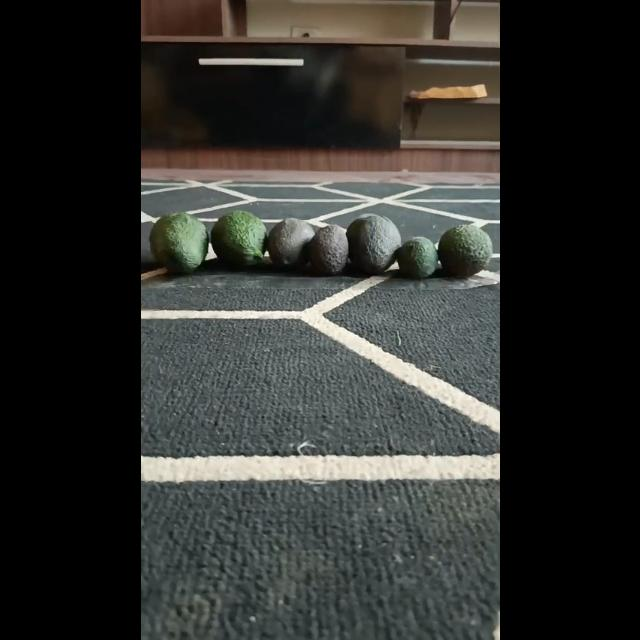Primera: (148, 211, 208, 273), (208, 210, 268, 268), (346, 213, 400, 273)
Segunda: (437, 224, 491, 278), (266, 218, 316, 268)
Tercera: (306, 224, 348, 276), (394, 237, 438, 279)
